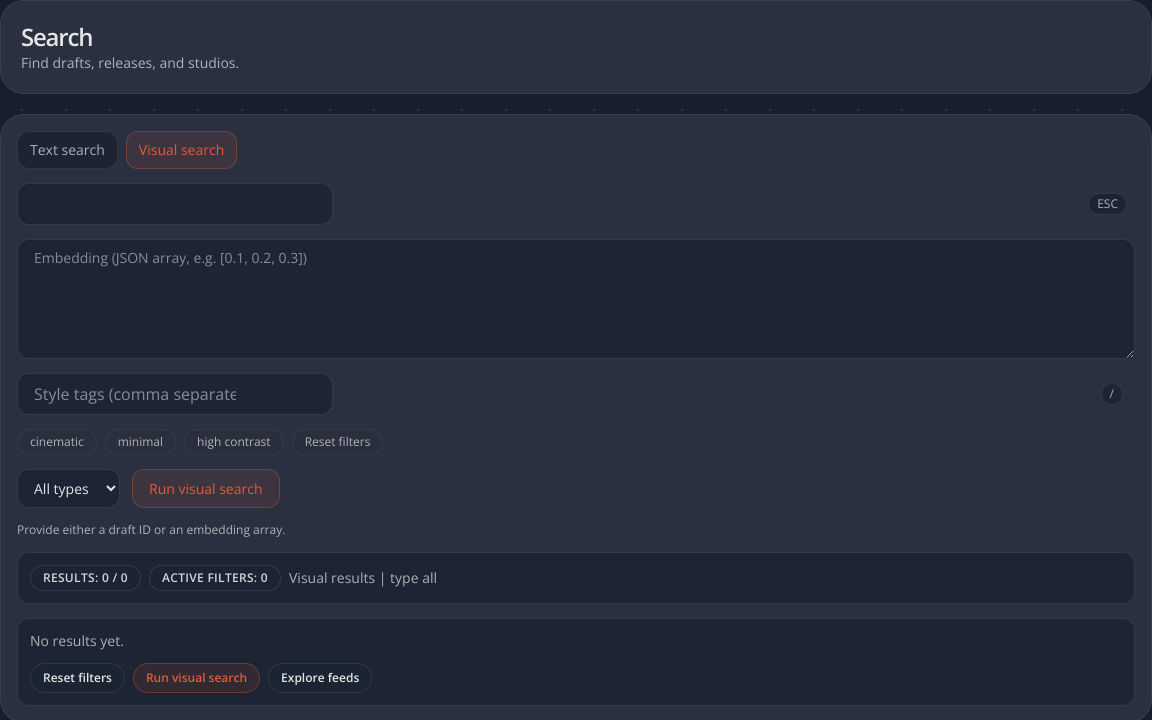
Scenario: search UI › does not auto-run visual search when draftId is blank after trim
Click the button "Text search" at coordinates (67, 150), box 17,131 -> 118,169
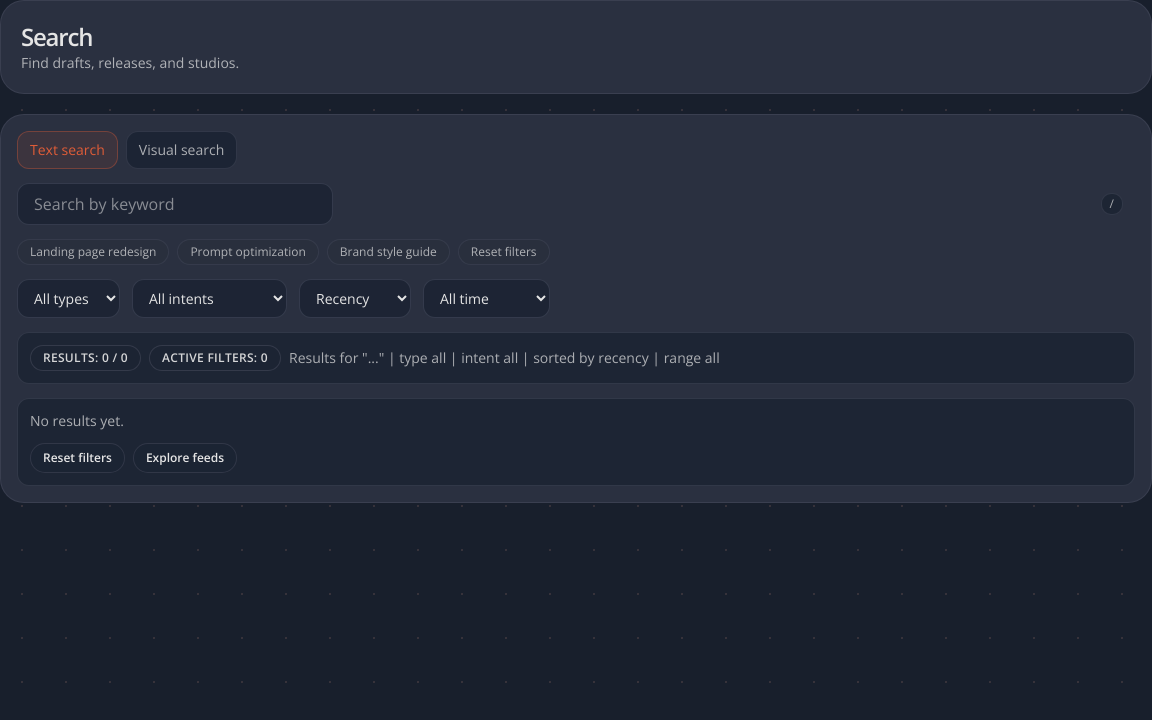
Expected: the search field with placeholder "Search by keyword" is shown, 17,183 -> 333,225
